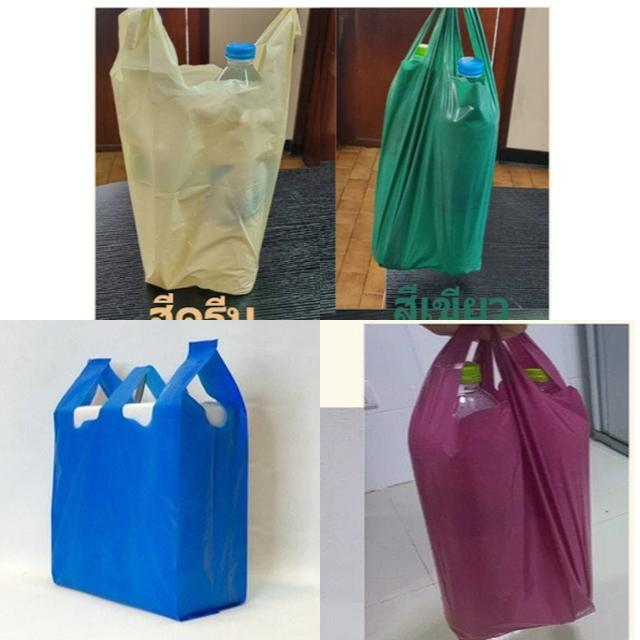Single-layer Plastic: (409, 326, 594, 640), (51, 340, 248, 620), (110, 9, 300, 295), (372, 9, 499, 275)
